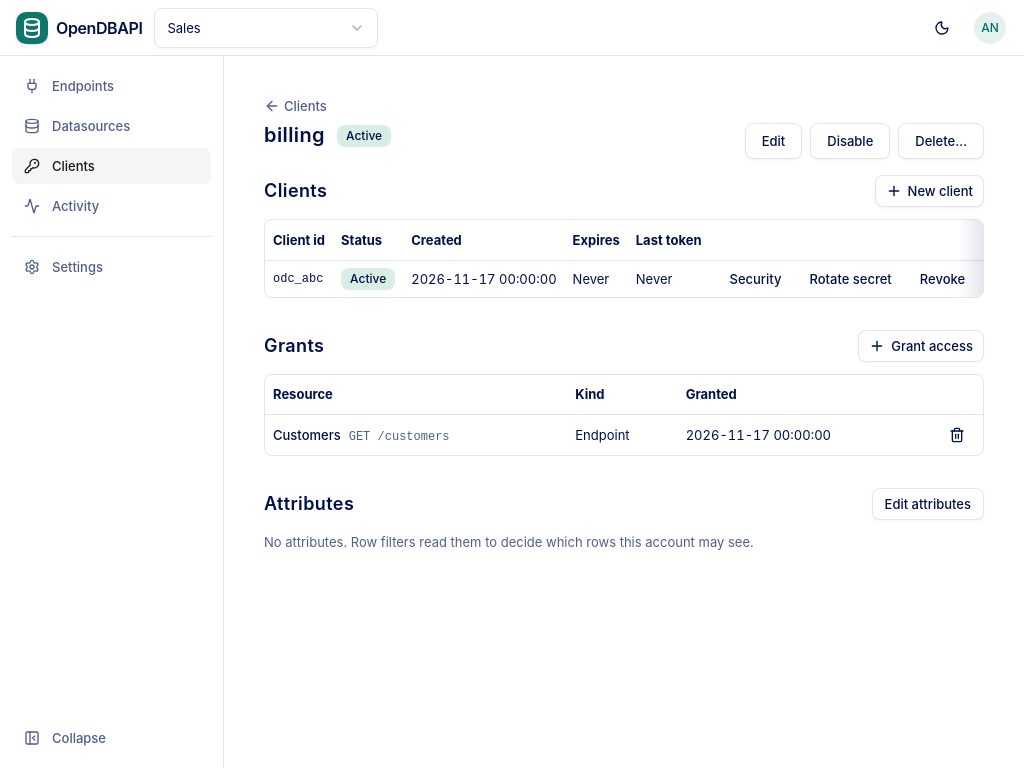
Test: Clients › shows a new client's secret once, with a token example
The width and height of the screenshot is (1024, 768).
Step 1. Click the button "New client" → coordinates (929, 191), box [875,175,984,207]
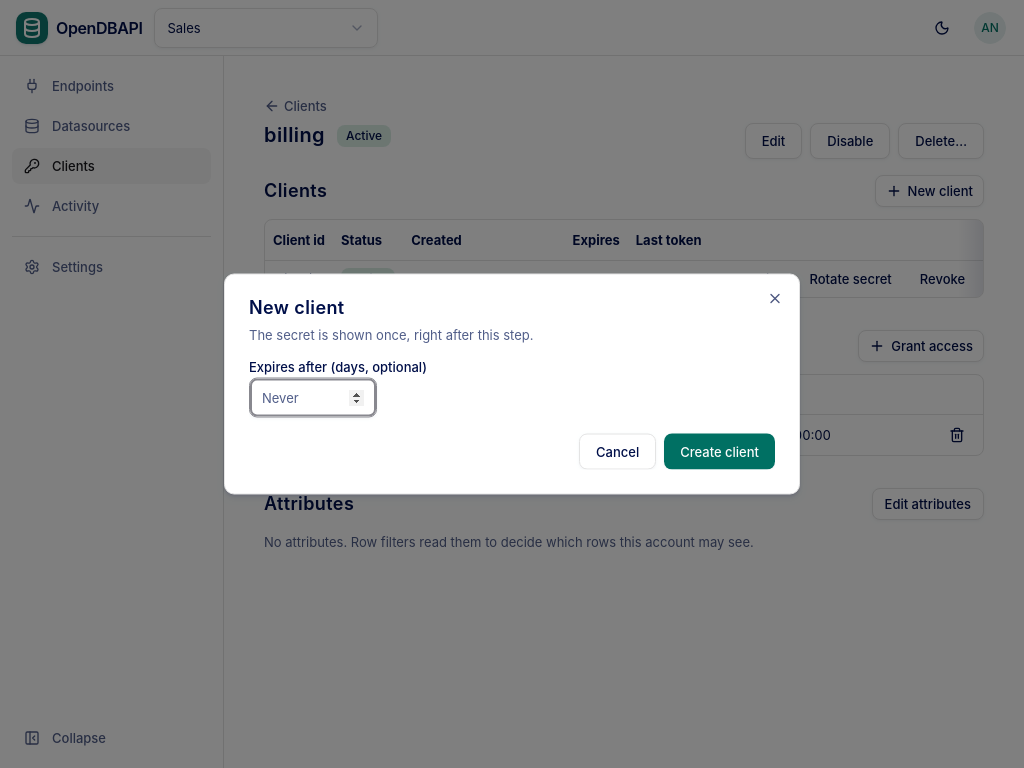
Step 2. Type "30" into the number field labelled "Expires after (days, optional)" → coordinates (313, 398), box [249,378,377,418]
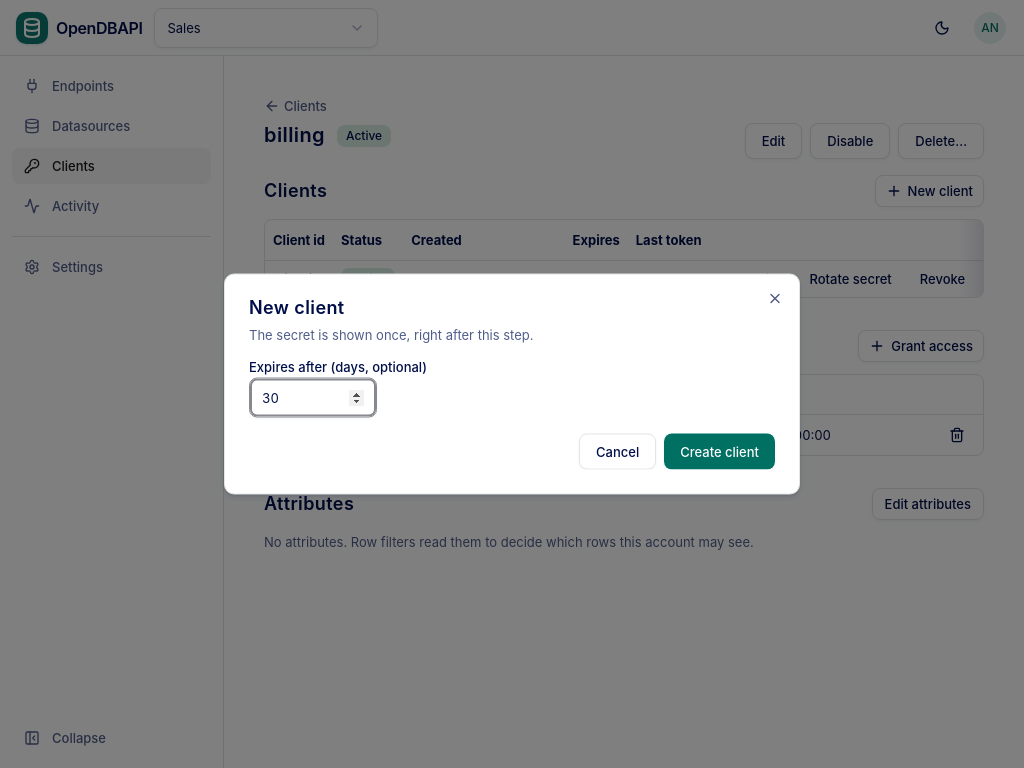
Step 3. Click the button "Create client" → coordinates (720, 452), box [664,434,775,470]
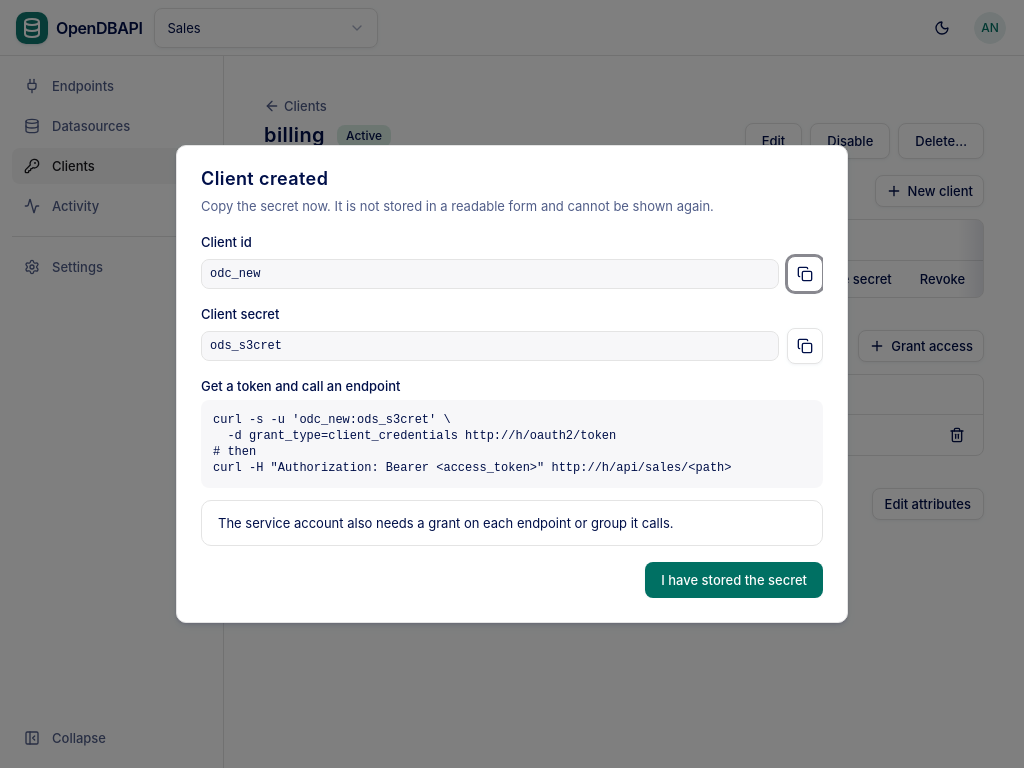
Expected: the text "ods_s3cret" is shown, [201,331,779,361]
Expected: the text "curl -s -u 'odc_new:ods_s3cret'" is shown, [213,413,732,475]
Step 4. Press Escape
Expected: the dialog "Client created" is shown, [176,145,848,623]
closing forgets the secret
Step 5. Click the button "I have stored the secret" → coordinates (734, 580), box [645,562,823,598]
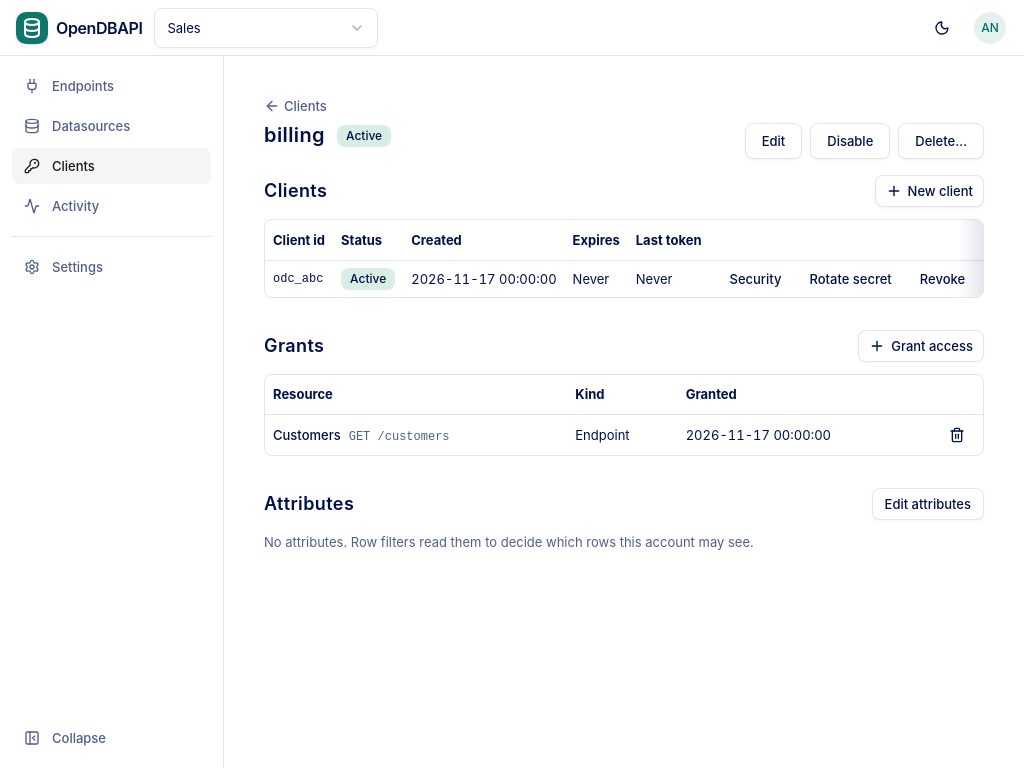
Expected: the text "ods_s3cret" is gone
